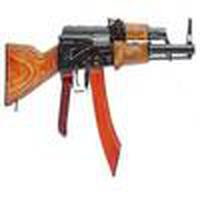gun: (4, 19, 197, 136)
